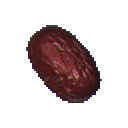gd: (20, 15, 111, 127)
